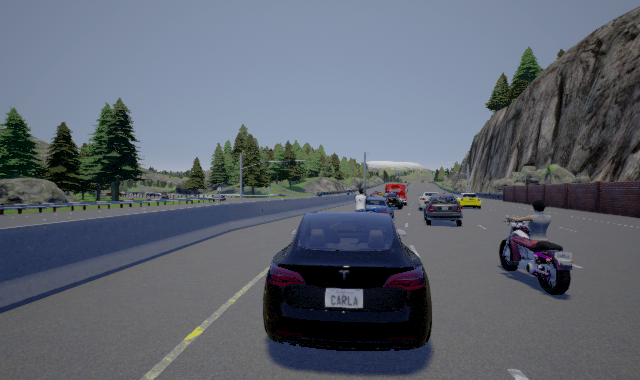motobike: (499, 198, 576, 295)
vehicle: (263, 211, 432, 351), (418, 192, 464, 229), (360, 195, 396, 222)
